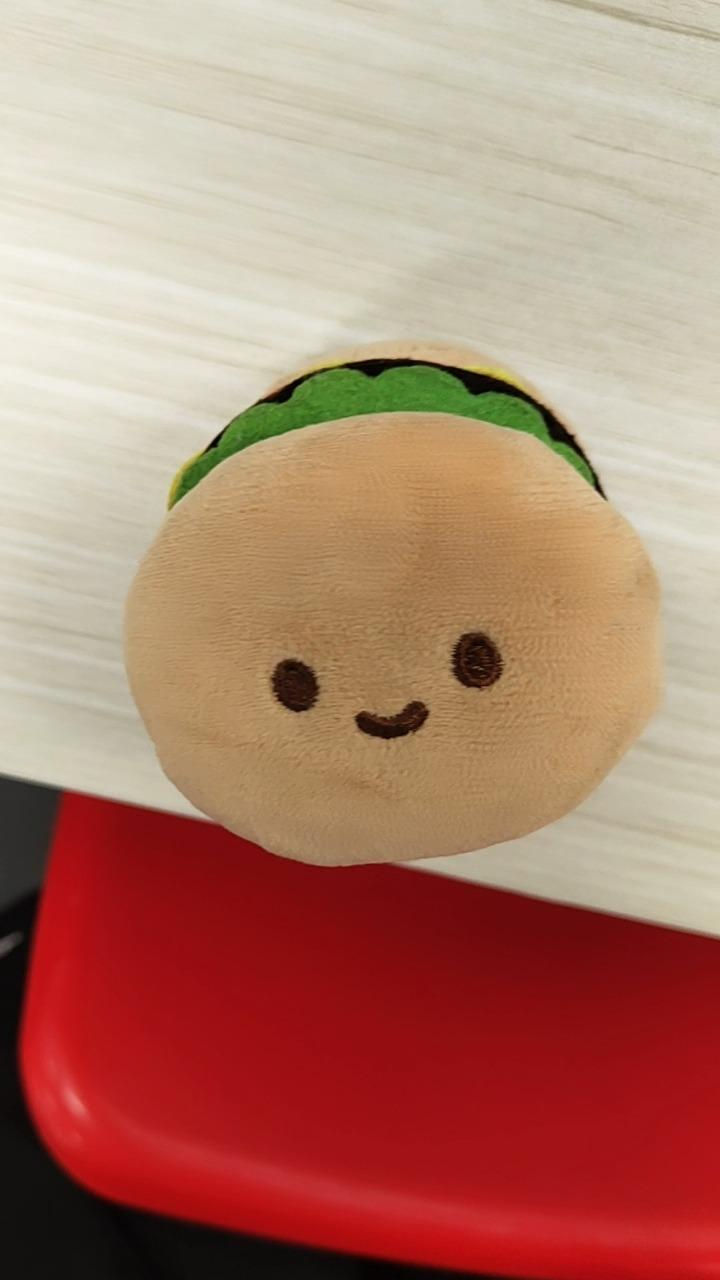hamburger: (120, 336, 663, 869)
